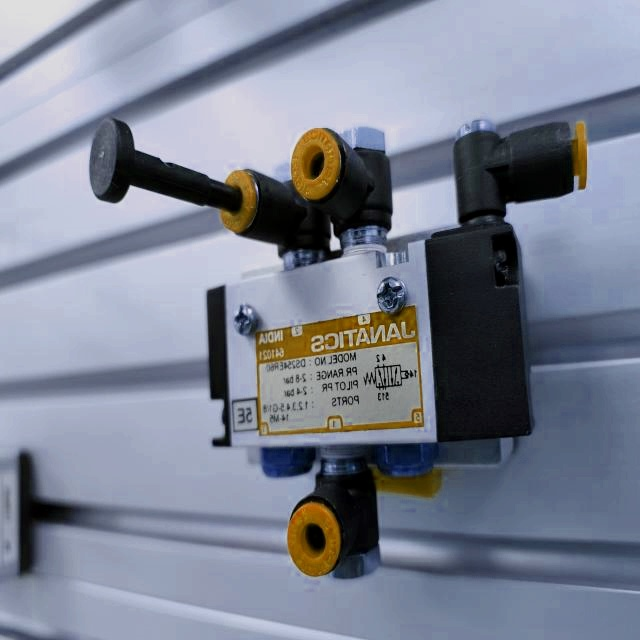5by2 DCV: (76, 99, 598, 591)
